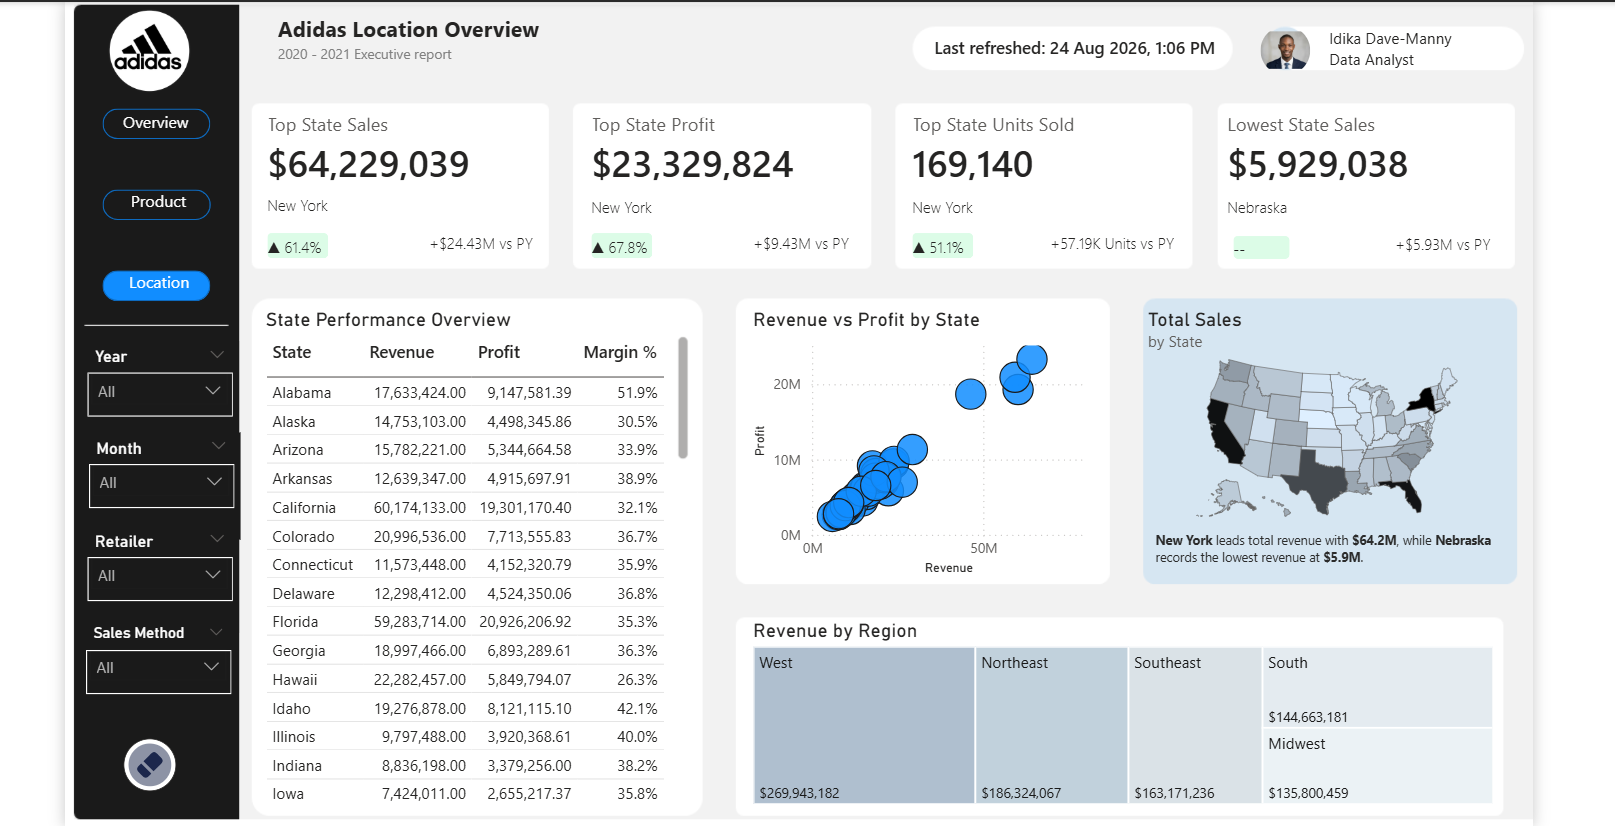

What the dashboard file says about the page in this screenshot:
{"tool":"powerbi","page":{"name":"Location Page","canvas":[1280,720],"ordinal":3},"visuals":[{"type":"image","box":[1042.1,21.2,43.4,42.4],"z":0,"group":"g15"},{"type":"textbox","box":[38.3,88.5,82,31.1],"z":0},{"type":"cardVisual","fields":{"Data":["Sales.Top State Profit"]},"box":[453.9,95,188.5,65.4],"z":0,"group":"g1"},{"type":"cardVisual","fields":{"Data":["Sales.Lowest State Sales"]},"box":[1008.3,95,177.7,65.4],"z":0,"group":"g14"},{"type":"cardVisual","fields":{"Data":["Sales.Top State Sales"]},"box":[170.8,95.4,193.8,65.4],"z":0,"group":"g10"},{"type":"cardVisual","fields":{"Data":["Sales.Top State Units Sold"]},"box":[733.2,95.4,188.5,65.4],"z":0,"group":"g4"},{"type":"slicer","title":"Year","fields":{"Values":["Date.Year"]},"box":[12.8,294.9,138.5,93.6],"z":0,"group":"g16"},{"type":"slicer","title":"Year","fields":{"Values":["Date.Month"]},"box":[14.1,375.6,138.5,93.6],"z":0,"group":"g6"},{"type":"slicer","title":"Year","fields":{"Values":["Sales.Retailer"]},"box":[12.8,456.4,138.5,93.6],"z":0,"group":"g7"},{"type":"slicer","title":"Year","fields":{"Values":["Sales.Sales Method"]},"box":[11.5,537.2,138.5,93.6],"z":0,"group":"g8"},{"type":"group","id":"g1","title":"Group 2","box":[453.8,95,245.4,133.4],"z":15,"group":"g11"},{"type":"group","id":"g2","title":"Group 2","box":[1008.1,95,250.4,133.8],"z":15,"group":"g13"},{"type":"group","id":"g3","title":"Group 2","box":[733.1,95.4,245.3,133.4],"z":15,"group":"g12"},{"type":"group","id":"g4","title":"Group 3","box":[733.1,95.4,245.3,133.4],"z":17,"group":"g3"},{"type":"textbox","box":[1096.5,17.1,153.5,46.5],"z":1000,"group":"g15"},{"type":"cardVisual","fields":{"Data":["Sales.Top State Name"]},"box":[170.8,160,83.8,32.3],"z":1000,"group":"g10"},{"type":"cardVisual","fields":{"Data":["Sales.Top State Profit Name"]},"box":[453.8,160,83.8,32.3],"z":1000,"group":"g1"},{"type":"cardVisual","fields":{"Data":["Sales.Top State Units Sold Name"]},"box":[733.1,160.4,83.8,32.3],"z":1000,"group":"g4"},{"type":"cardVisual","fields":{"Data":["Sales.Lowest State Name"]},"box":[1008.1,160.4,78.5,32.3],"z":1000,"group":"g14"},{"type":"textbox","box":[45.6,163.1,65.6,26.9],"z":1000},{"type":"shape","box":[19.2,321.8,126.9,38.5],"z":1000,"group":"g16"},{"type":"shape","box":[20.5,402.5,126.9,38.5],"z":1000,"group":"g6"},{"type":"shape","box":[19.2,483.3,126.9,38.5],"z":1000,"group":"g7"},{"type":"shape","box":[17.9,564.1,126.9,38.5],"z":1000,"group":"g8"},{"type":"textbox","box":[180.8,5.1,273.1,61.5],"z":2000},{"type":"cardVisual","fields":{"Data":["Sales.Top State Profit Growth Badge"]},"box":[453.8,196.1,63.1,32.3],"z":2000,"group":"g1"},{"type":"cardVisual","fields":{"Data":["Sales.Top State Sales Growth Badge"]},"box":[170.8,196.2,63.1,32.3],"z":2000,"group":"g10"},{"type":"cardVisual","fields":{"Data":["Sales.Top State Units Sold Growth Badge"]},"box":[733.1,196.5,63.1,32.3],"z":2000,"group":"g4"},{"type":"cardVisual","fields":{"Data":["Sales.Lowest State Sales Growth Badge"]},"box":[1013.4,198.1,59.2,30.8],"z":2000,"group":"g14"},{"type":"cardVisual","fields":{"Data":["Sales.Top State Units Sold Growth Label"]},"box":[853.8,192,124.6,32.3],"z":3000,"group":"g4"},{"type":"cardVisual","fields":{"Data":["Sales.Top State Sales Growth Label"]},"box":[312.3,192.3,103.8,32.3],"z":3000,"group":"g10"},{"type":"cardVisual","fields":{"Data":["Sales.Top State Profit Growth Label"]},"box":[595.3,192.3,103.8,32.3],"z":3000,"group":"g1"},{"type":"cardVisual","fields":{"Data":["Sales.Lowest State Sales Growth Label"]},"box":[1154.7,192.7,103.8,32.3],"z":3000,"group":"g14"},{"type":"group","id":"g5","title":"Group 17","box":[12.8,294.9,138.5,93.6],"z":3000},{"type":"group","id":"g6","title":"Group 18","box":[14.1,375.6,138.5,93.6],"z":4000},{"type":"group","id":"g7","title":"Group 18","box":[12.8,456.4,138.5,93.6],"z":5000},{"type":"group","id":"g8","title":"Group 18","box":[11.5,537.2,138.5,93.6],"z":6000},{"type":"group","id":"g9","title":"Group 16","box":[32.2,228.6,94,31.5],"z":7000},{"type":"image","box":[0,5.1,147.4,74.4],"z":8000},{"type":"group","id":"g10","title":"Group 1","box":[170.8,95.4,245.4,133.1],"z":9000},{"type":"group","id":"g11","title":"Group 1","box":[453.8,95,245.4,133.4],"z":10000},{"type":"group","id":"g12","title":"Group 1","box":[733.1,95.4,245.3,133.4],"z":11000},{"type":"group","id":"g13","title":"Group 1","box":[1008.1,95,250.4,133.8],"z":12000},{"type":"tableEx","title":"State Performance Overview","fields":{"Values":["Location.State","Sales.Revenue","Sales.Profit","Sales.Margin %"]},"box":[170.5,266.7,378.2,437.2],"z":13000},{"type":"group","id":"g14","title":"Group 4","box":[1008.1,95,250.4,133.8],"z":13001,"group":"g2"},{"type":"scatterChart","title":"Revenue vs Profit by State","fields":{"X":["Sales.Revenue"],"Y":["Sales.Profit"],"Category":["Location.State"]},"box":[594.8,266.2,311.7,236.4],"z":14000},{"type":"treemap","fields":{"Values":["Sales.Revenue"],"Group":["Location.Region"]},"box":[594.8,537.7,654.5,166.2],"z":15000},{"type":"shapeMap","title":"Total Sales","fields":{"Category":["Location.State"],"Value":["Sales.Revenue"]},"box":[940.3,266.5,318,189.3],"z":16000},{"type":"shape","box":[32.2,92.9,94,26.8],"z":17000},{"type":"htmlContent443BE3AD55E043BF878BED274D3A6855","fields":{"content":["Sales.Map Summary"]},"box":[945.3,456.2,313,48.4],"z":18000},{"type":"group","id":"g15","title":"Group 19","box":[1042.1,17.1,207.9,46.5],"z":19000},{"type":"shape","box":[32.2,233.3,94,26.8],"z":19000,"group":"g9"},{"type":"cardVisual","fields":{"Data":["Sales.Last Refreshed Label"]},"box":[746.9,16.1,267.1,45.5],"z":20000},{"type":"textbox","box":[38.1,228.6,82.3,31.4],"z":20000,"group":"g9"},{"type":"shape","box":[32.5,163,94.4,26.7],"z":21000},{"type":"group","id":"g16","title":"Group 18","box":[12.8,294.9,138.5,93.6],"z":22503,"group":"g5"}]}

Visuals, with their boxes on the page's 1280x720 design canvas (x1, y1, x2, y2). These are canvas units, not pixel positions in the 1615x826 screenshot, which may show the page scaled, cropped or inside an application window:
image: <bbox>1042, 21, 1086, 64</bbox>
textbox: <bbox>38, 88, 120, 120</bbox>
cardVisual - Sales.Top State Profit: <bbox>454, 95, 642, 160</bbox>
cardVisual - Sales.Lowest State Sales: <bbox>1008, 95, 1186, 160</bbox>
cardVisual - Sales.Top State Sales: <bbox>171, 95, 365, 161</bbox>
cardVisual - Sales.Top State Units Sold: <bbox>733, 95, 922, 161</bbox>
"Year" slicer: <bbox>13, 295, 151, 388</bbox>
"Year" slicer: <bbox>14, 376, 153, 469</bbox>
"Year" slicer: <bbox>13, 456, 151, 550</bbox>
"Year" slicer: <bbox>12, 537, 150, 631</bbox>
"Group 2" group: <bbox>454, 95, 699, 228</bbox>
"Group 2" group: <bbox>1008, 95, 1258, 229</bbox>
"Group 2" group: <bbox>733, 95, 978, 229</bbox>
"Group 3" group: <bbox>733, 95, 978, 229</bbox>
textbox: <bbox>1096, 17, 1250, 64</bbox>
cardVisual - Sales.Top State Name: <bbox>171, 160, 255, 192</bbox>
cardVisual - Sales.Top State Profit Name: <bbox>454, 160, 538, 192</bbox>
cardVisual - Sales.Top State Units Sold Name: <bbox>733, 160, 817, 193</bbox>
cardVisual - Sales.Lowest State Name: <bbox>1008, 160, 1087, 193</bbox>
textbox: <bbox>46, 163, 111, 190</bbox>
shape: <bbox>19, 322, 146, 360</bbox>
shape: <bbox>20, 402, 147, 441</bbox>
shape: <bbox>19, 483, 146, 522</bbox>
shape: <bbox>18, 564, 145, 603</bbox>
textbox: <bbox>181, 5, 454, 67</bbox>
cardVisual - Sales.Top State Profit Growth Badge: <bbox>454, 196, 517, 228</bbox>
cardVisual - Sales.Top State Sales Growth Badge: <bbox>171, 196, 234, 228</bbox>
cardVisual - Sales.Top State Units Sold Growth Badge: <bbox>733, 196, 796, 229</bbox>
cardVisual - Sales.Lowest State Sales Growth Badge: <bbox>1013, 198, 1073, 229</bbox>
cardVisual - Sales.Top State Units Sold Growth Label: <bbox>854, 192, 978, 224</bbox>
cardVisual - Sales.Top State Sales Growth Label: <bbox>312, 192, 416, 225</bbox>
cardVisual - Sales.Top State Profit Growth Label: <bbox>595, 192, 699, 225</bbox>
cardVisual - Sales.Lowest State Sales Growth Label: <bbox>1155, 193, 1258, 225</bbox>
"Group 17" group: <bbox>13, 295, 151, 388</bbox>
"Group 18" group: <bbox>14, 376, 153, 469</bbox>
"Group 18" group: <bbox>13, 456, 151, 550</bbox>
"Group 18" group: <bbox>12, 537, 150, 631</bbox>
"Group 16" group: <bbox>32, 229, 126, 260</bbox>
image: <bbox>0, 5, 147, 80</bbox>
"Group 1" group: <bbox>171, 95, 416, 228</bbox>
"Group 1" group: <bbox>454, 95, 699, 228</bbox>
"Group 1" group: <bbox>733, 95, 978, 229</bbox>
"Group 1" group: <bbox>1008, 95, 1258, 229</bbox>
"State Performance Overview" tableEx: <bbox>170, 267, 549, 704</bbox>
"Group 4" group: <bbox>1008, 95, 1258, 229</bbox>
"Revenue vs Profit by State" scatterChart: <bbox>595, 266, 906, 503</bbox>
treemap - Sales.Revenue x Location.Region: <bbox>595, 538, 1249, 704</bbox>
"Total Sales" shapeMap: <bbox>940, 266, 1258, 456</bbox>
shape: <bbox>32, 93, 126, 120</bbox>
htmlContent443BE3AD55E043BF878BED274D3A6855 - Sales.Map Summary: <bbox>945, 456, 1258, 505</bbox>
"Group 19" group: <bbox>1042, 17, 1250, 64</bbox>
shape: <bbox>32, 233, 126, 260</bbox>
cardVisual - Sales.Last Refreshed Label: <bbox>747, 16, 1014, 62</bbox>
textbox: <bbox>38, 229, 120, 260</bbox>
shape: <bbox>32, 163, 127, 190</bbox>
"Group 18" group: <bbox>13, 295, 151, 388</bbox>
